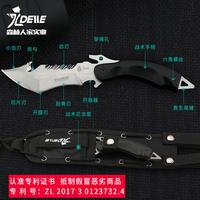knife: (1, 56, 197, 99)
